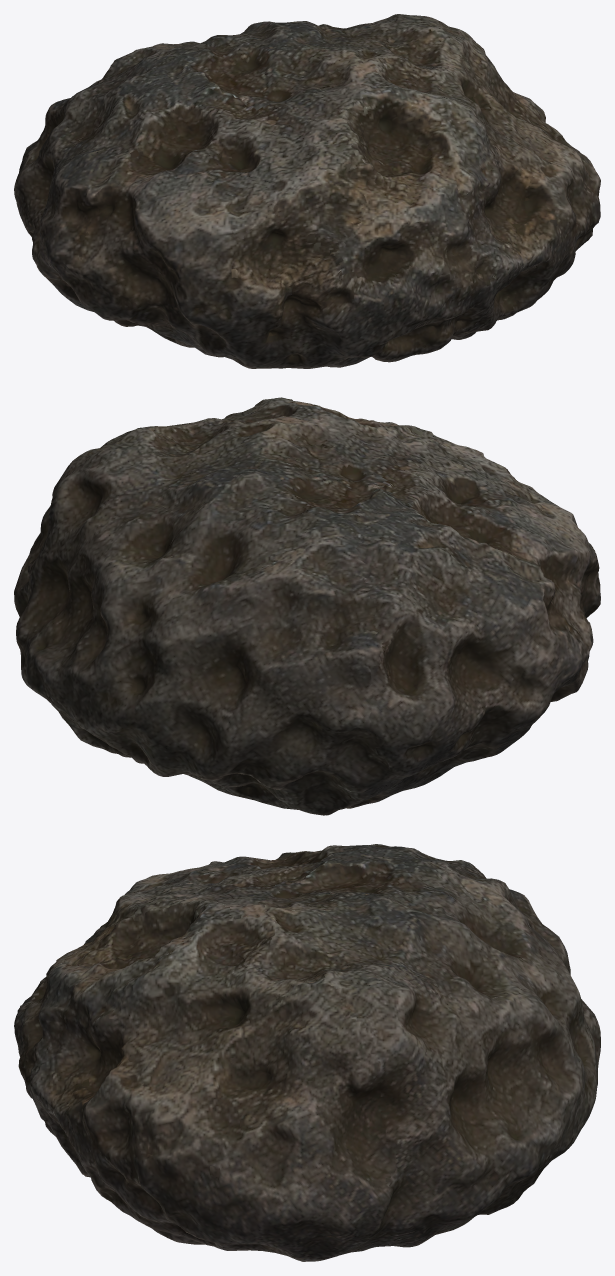
Rendered from asteroid_common_3_lod1.glb.
3 views of the same model, one above another, from view 1: azimuth 30°, elevation 25°; view 2: azimuth 150°, elevation 25°; view 3: azimuth 270°, elevation 25° (orthographic). The views are drawn at different scales.
Visible parts, largest first — view 1: model; view 2: model; view 3: model.
Part boxes in pixels (x1=…): model: x1=14, y1=14, x2=600, y2=368; model: x1=14, y1=397, x2=600, y2=815; model: x1=14, y1=844, x2=600, y2=1261.
Bounding box in the file's own units: 1.9 × 0.9778 × 1.7.
Materials: 1 (1 with a texture image).
